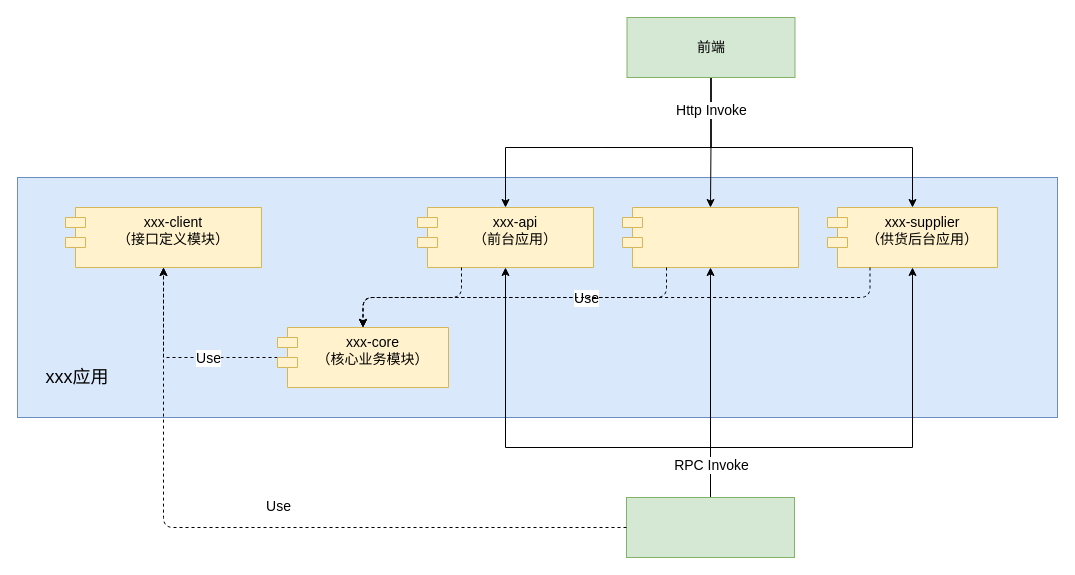
This 1075x575 diagram has some shape labels left out. The centre of each missing label's shape, as x and y in pixels:
"xxx-boss （管理后台应用）" goes at pixel 710 237.
"外部应用" goes at pixel 710 527.
